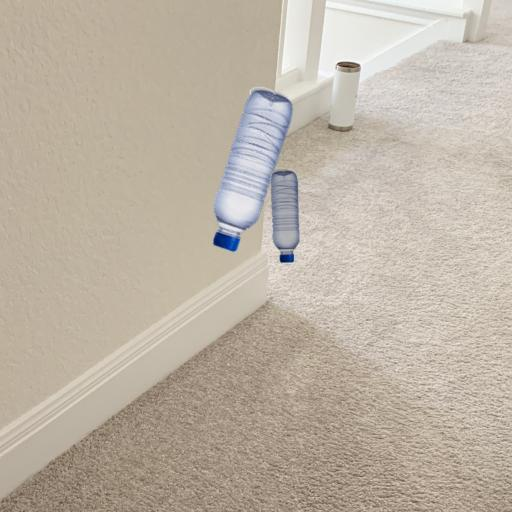bottle: (200, 9, 309, 40)
